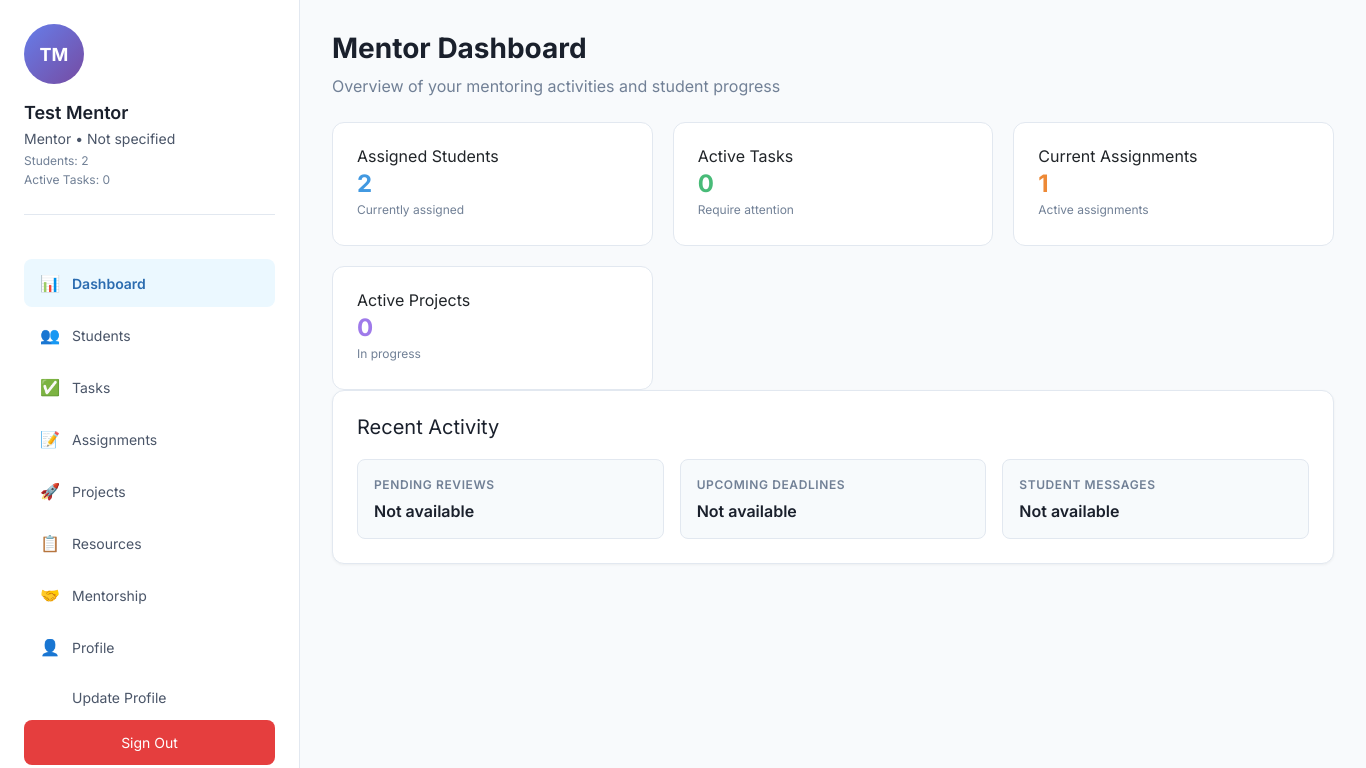
mentor can change selected students for Projects
Later steps or results of the test are not shown.
Click the button "🚀 Projects": coordinates (150, 491) [24, 467, 275, 515]
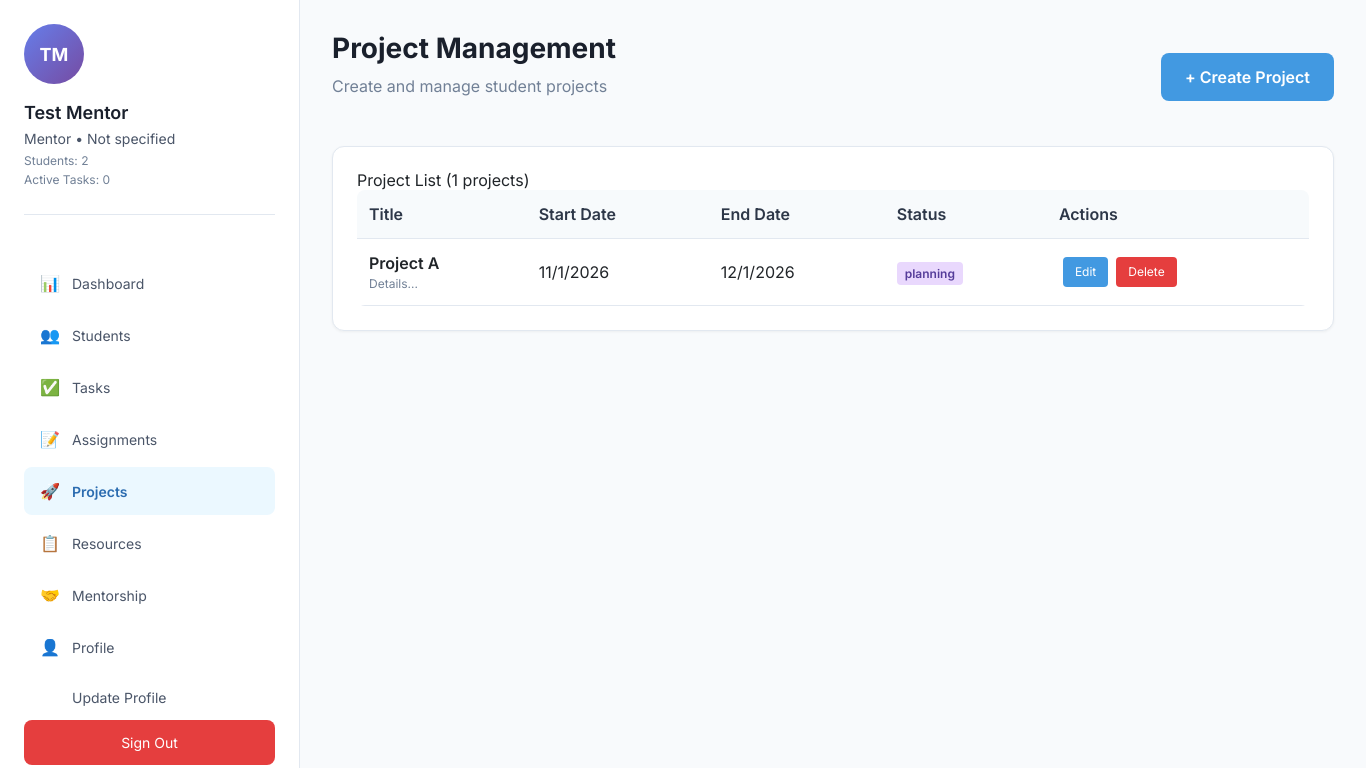
Expected: the text "Project A" is shown, [369, 253, 439, 273]
Click the button "Edit": coordinates (1086, 272) [1063, 257, 1108, 287]
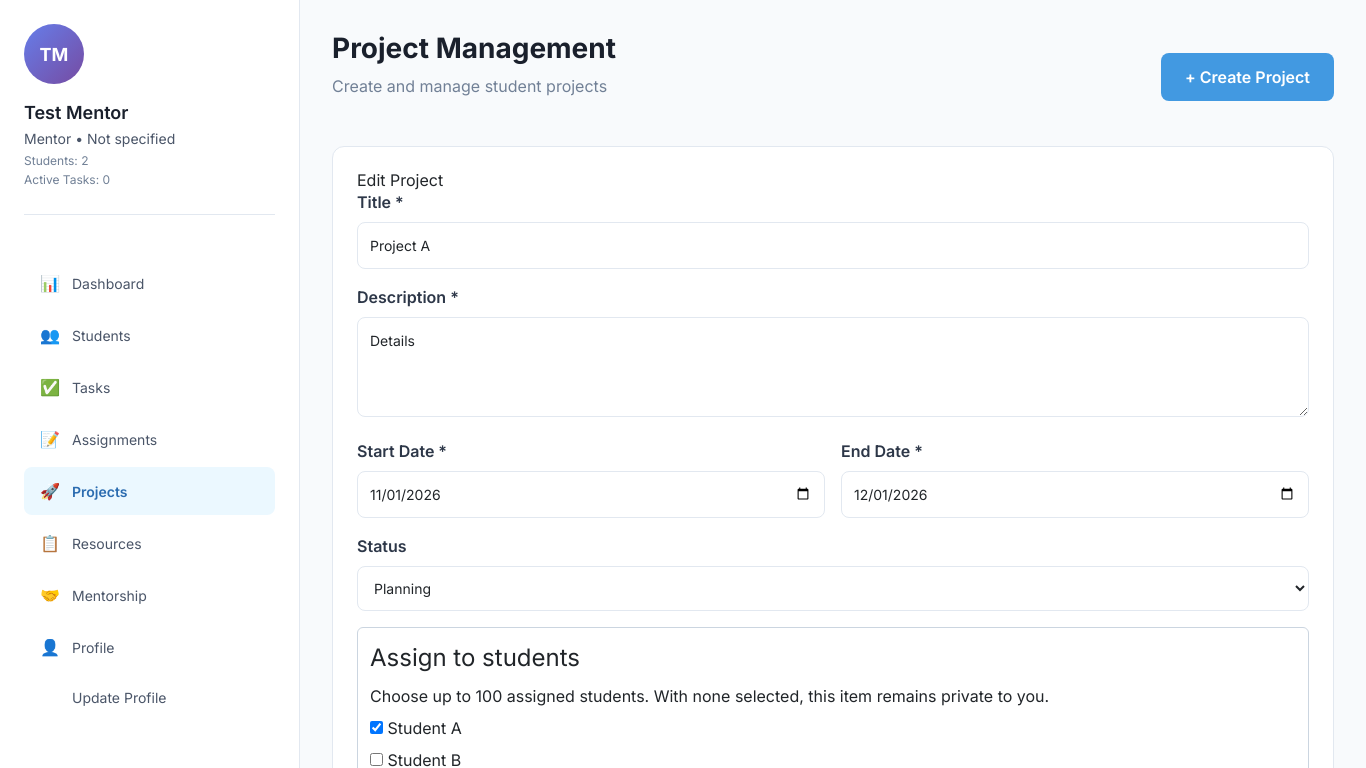
Expected: the checkbox labelled "Student A" is checked, [370, 721, 383, 734]
